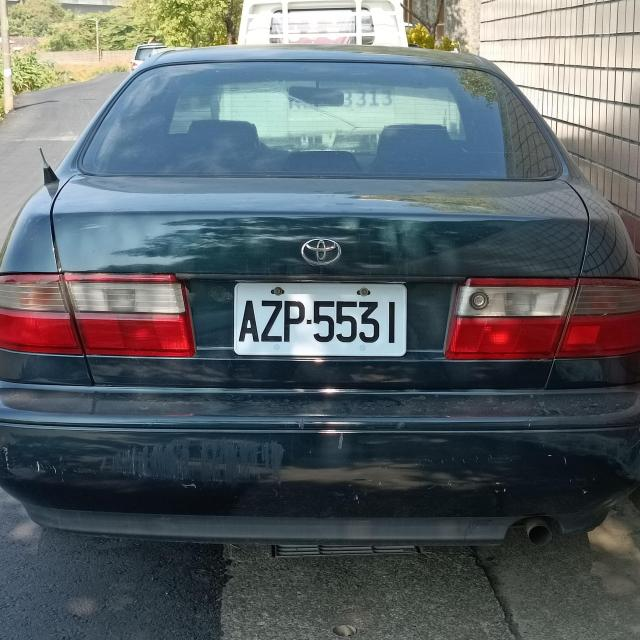W: (233, 282, 405, 357)
